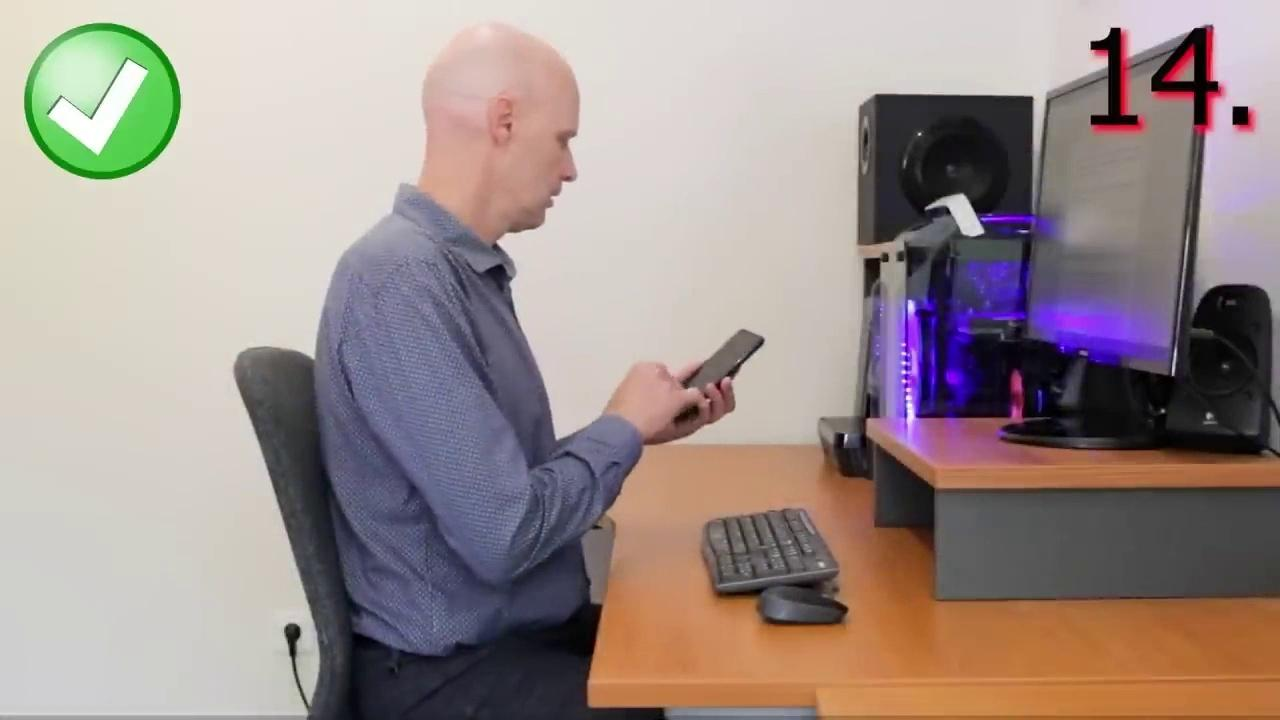GoodPosture: (315, 24, 735, 719)
